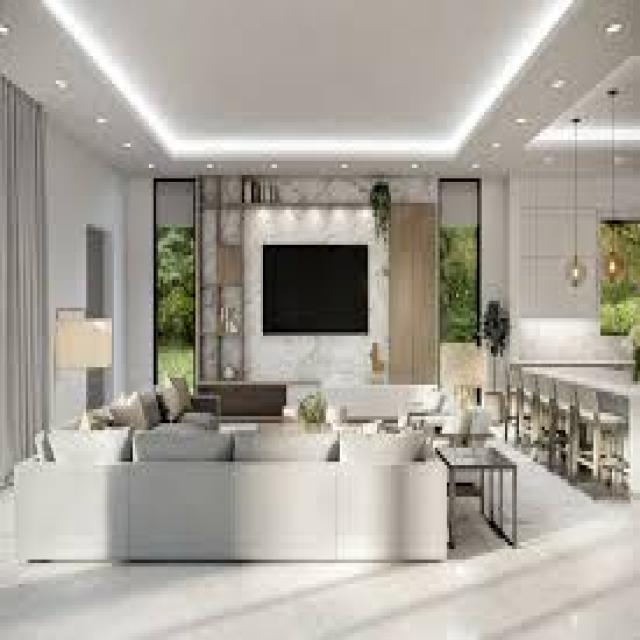Chair: (570, 387, 624, 502), (550, 388, 578, 482), (530, 377, 558, 458), (502, 362, 523, 449)
Lamp: (54, 296, 120, 431), (442, 346, 488, 449), (556, 243, 594, 285), (600, 234, 626, 291)
Sofa: (22, 393, 450, 589), (24, 335, 215, 514)
Table: (510, 350, 640, 466)
